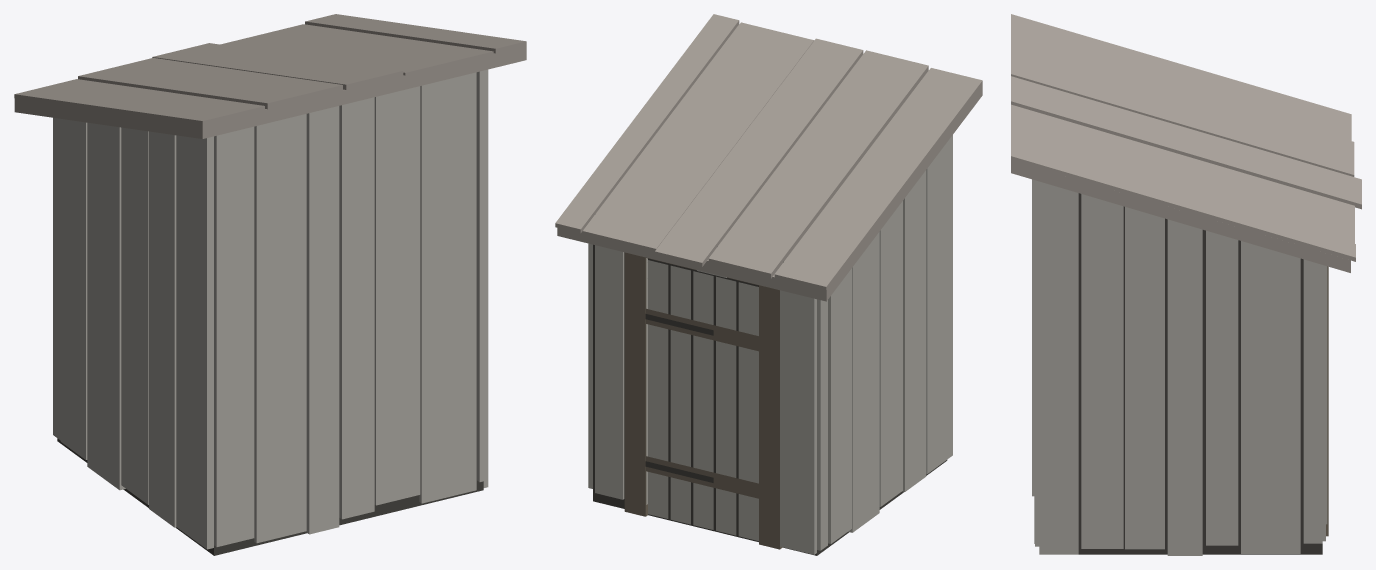
Rendered from recon_1835_blk_indiana_north_cass_a3_11__inferred_1835.glb.
The picture shows the model from 3 angles, left to right: view 1: azimuth 30°, elevation 25°; view 2: azimuth 150°, elevation 25°; view 3: azimuth 270°, elevation 25°; orthographic projection. The views are drawn at different scales.
Parts seen in each view (by area): view 1: recon_1835_blk_indiana_north_cass_a3_11__inferred_1835; view 2: recon_1835_blk_indiana_north_cass_a3_11__inferred_1835; view 3: recon_1835_blk_indiana_north_cass_a3_11__inferred_1835.
Boxes of the visible parts, bbox=[...] form: recon_1835_blk_indiana_north_cass_a3_11__inferred_1835: bbox=[14, 14, 526, 555]; recon_1835_blk_indiana_north_cass_a3_11__inferred_1835: bbox=[555, 14, 982, 555]; recon_1835_blk_indiana_north_cass_a3_11__inferred_1835: bbox=[1011, 14, 1361, 555].
Size of the model in its own units: 2.04 by 2.74 by 2.12.
